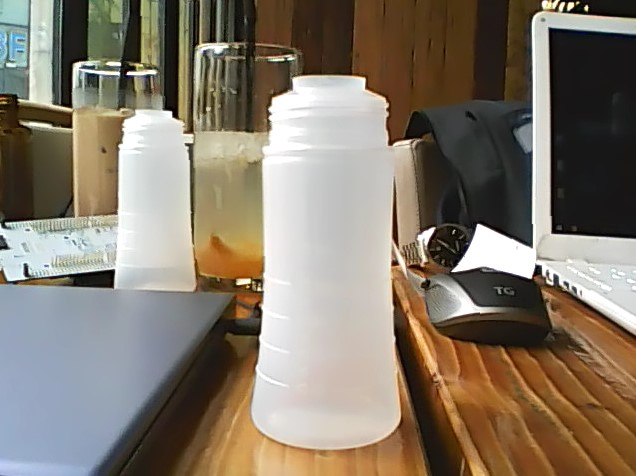Plastic: (246, 74, 408, 452)
